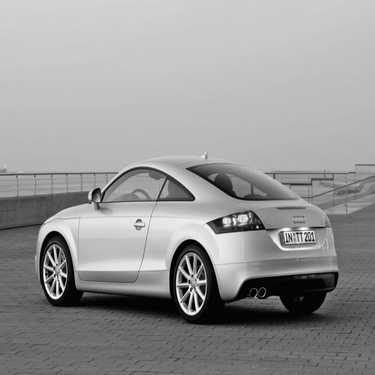car: (29, 139, 346, 327)
